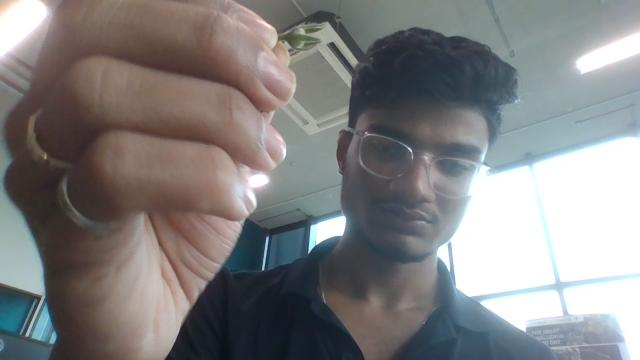Fruit Bud: (277, 23, 324, 51)
